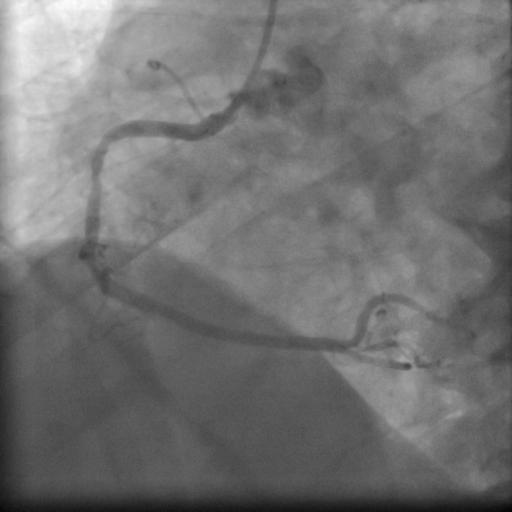Stenosis: (82, 160, 115, 278)
